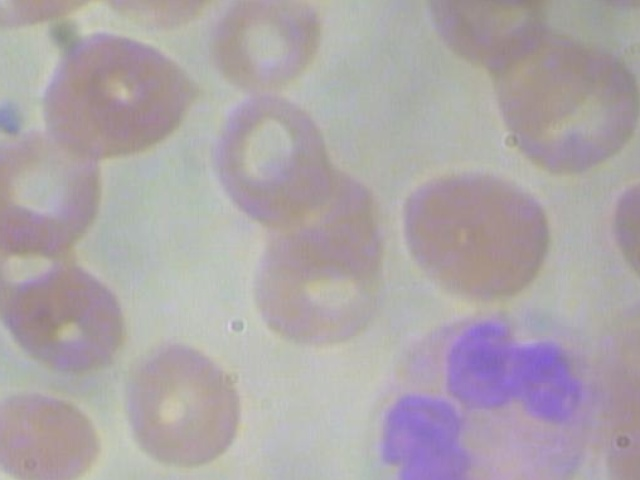Platelets: (0, 98, 32, 139)
RBC: (394, 151, 561, 314), (25, 22, 201, 159), (495, 31, 640, 173), (249, 214, 385, 358), (204, 86, 339, 230), (117, 335, 241, 473), (0, 118, 104, 257), (0, 360, 104, 480), (208, 0, 329, 101), (601, 161, 640, 313)
WBC: (350, 292, 618, 480)
